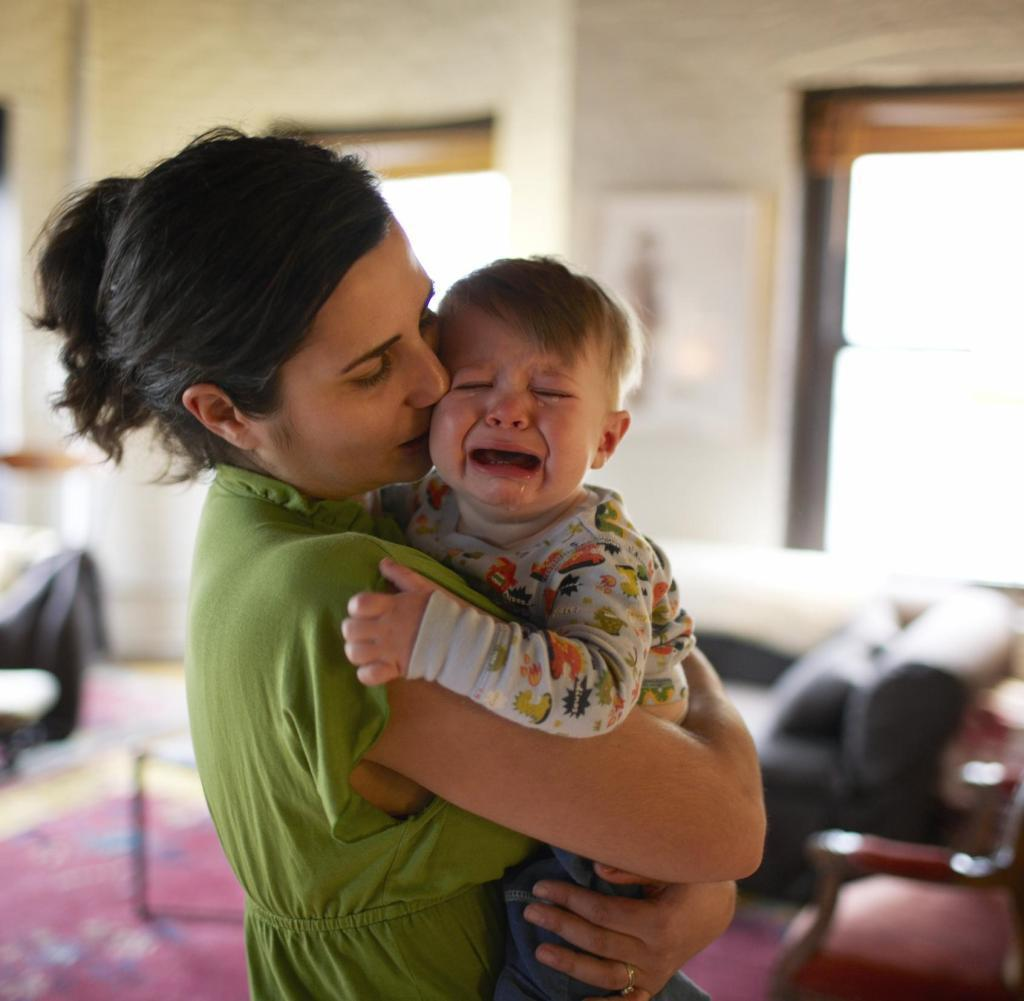child: (419, 239, 756, 951)
